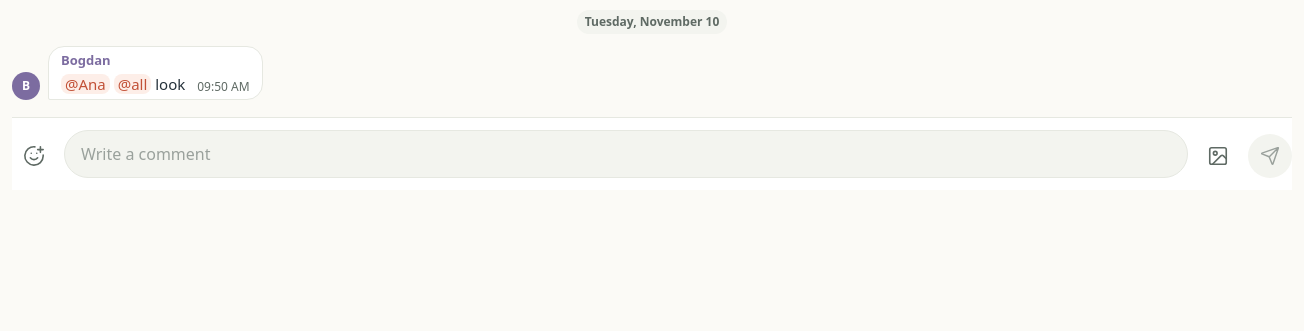
Scenario: Comments › offers the crew after an @ and draws a mention as a chip
The width and height of the screenshot is (1304, 331).
Expected: the text "@all" is shown, [114, 74, 151, 94]
Type "hi @" into the text box labelled "comment".
click(626, 154); type("hi @")  # box [64, 130, 1188, 178]
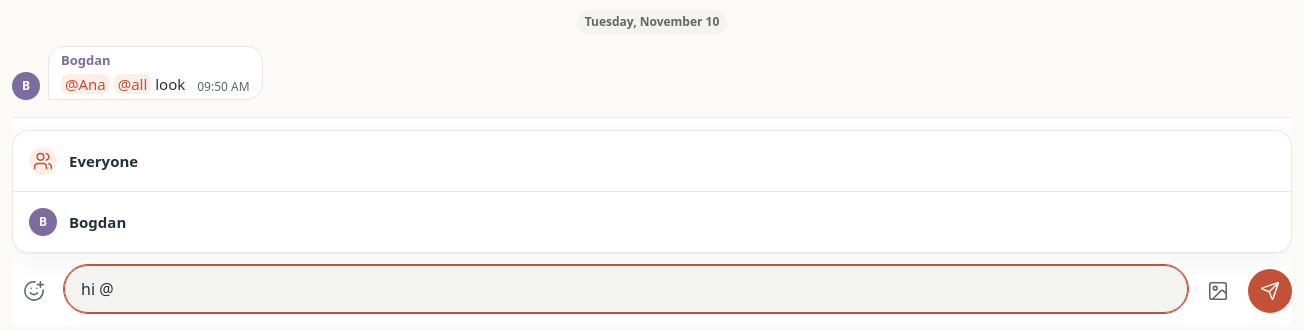
Expected: the button "Everyone" is shown, [13, 131, 1291, 191]
Expected: the button "B Bogdan" is shown, [13, 192, 1291, 252]
Type "b" into the text box named "comment".
click(626, 289); type("b")  # box [64, 265, 1188, 313]
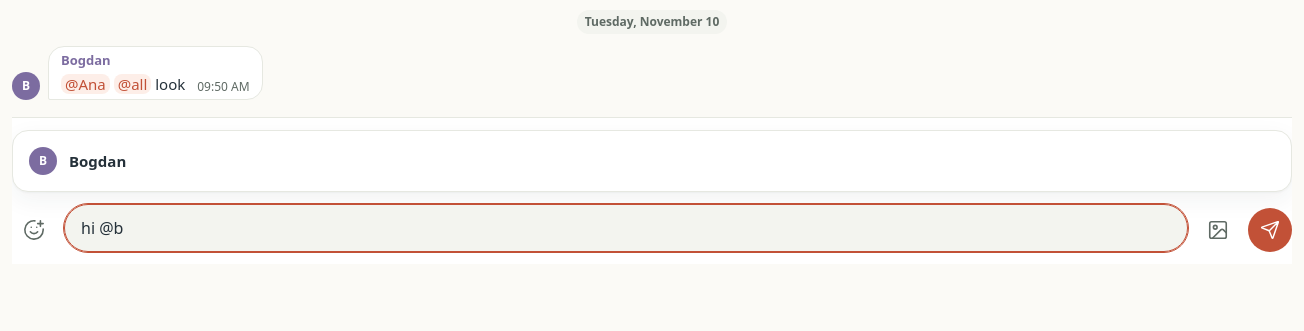
Expected: the button "Everyone" is gone
Click the button "B Bogdan".
click(98, 161)  # box [13, 131, 1291, 191]
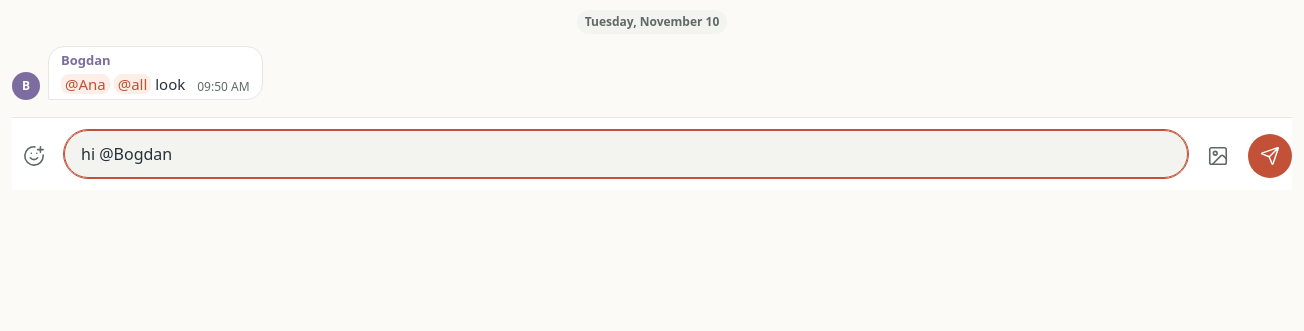
Expected: the text box named "comment" holds "hi @Bogdan ", [64, 130, 1188, 178]
